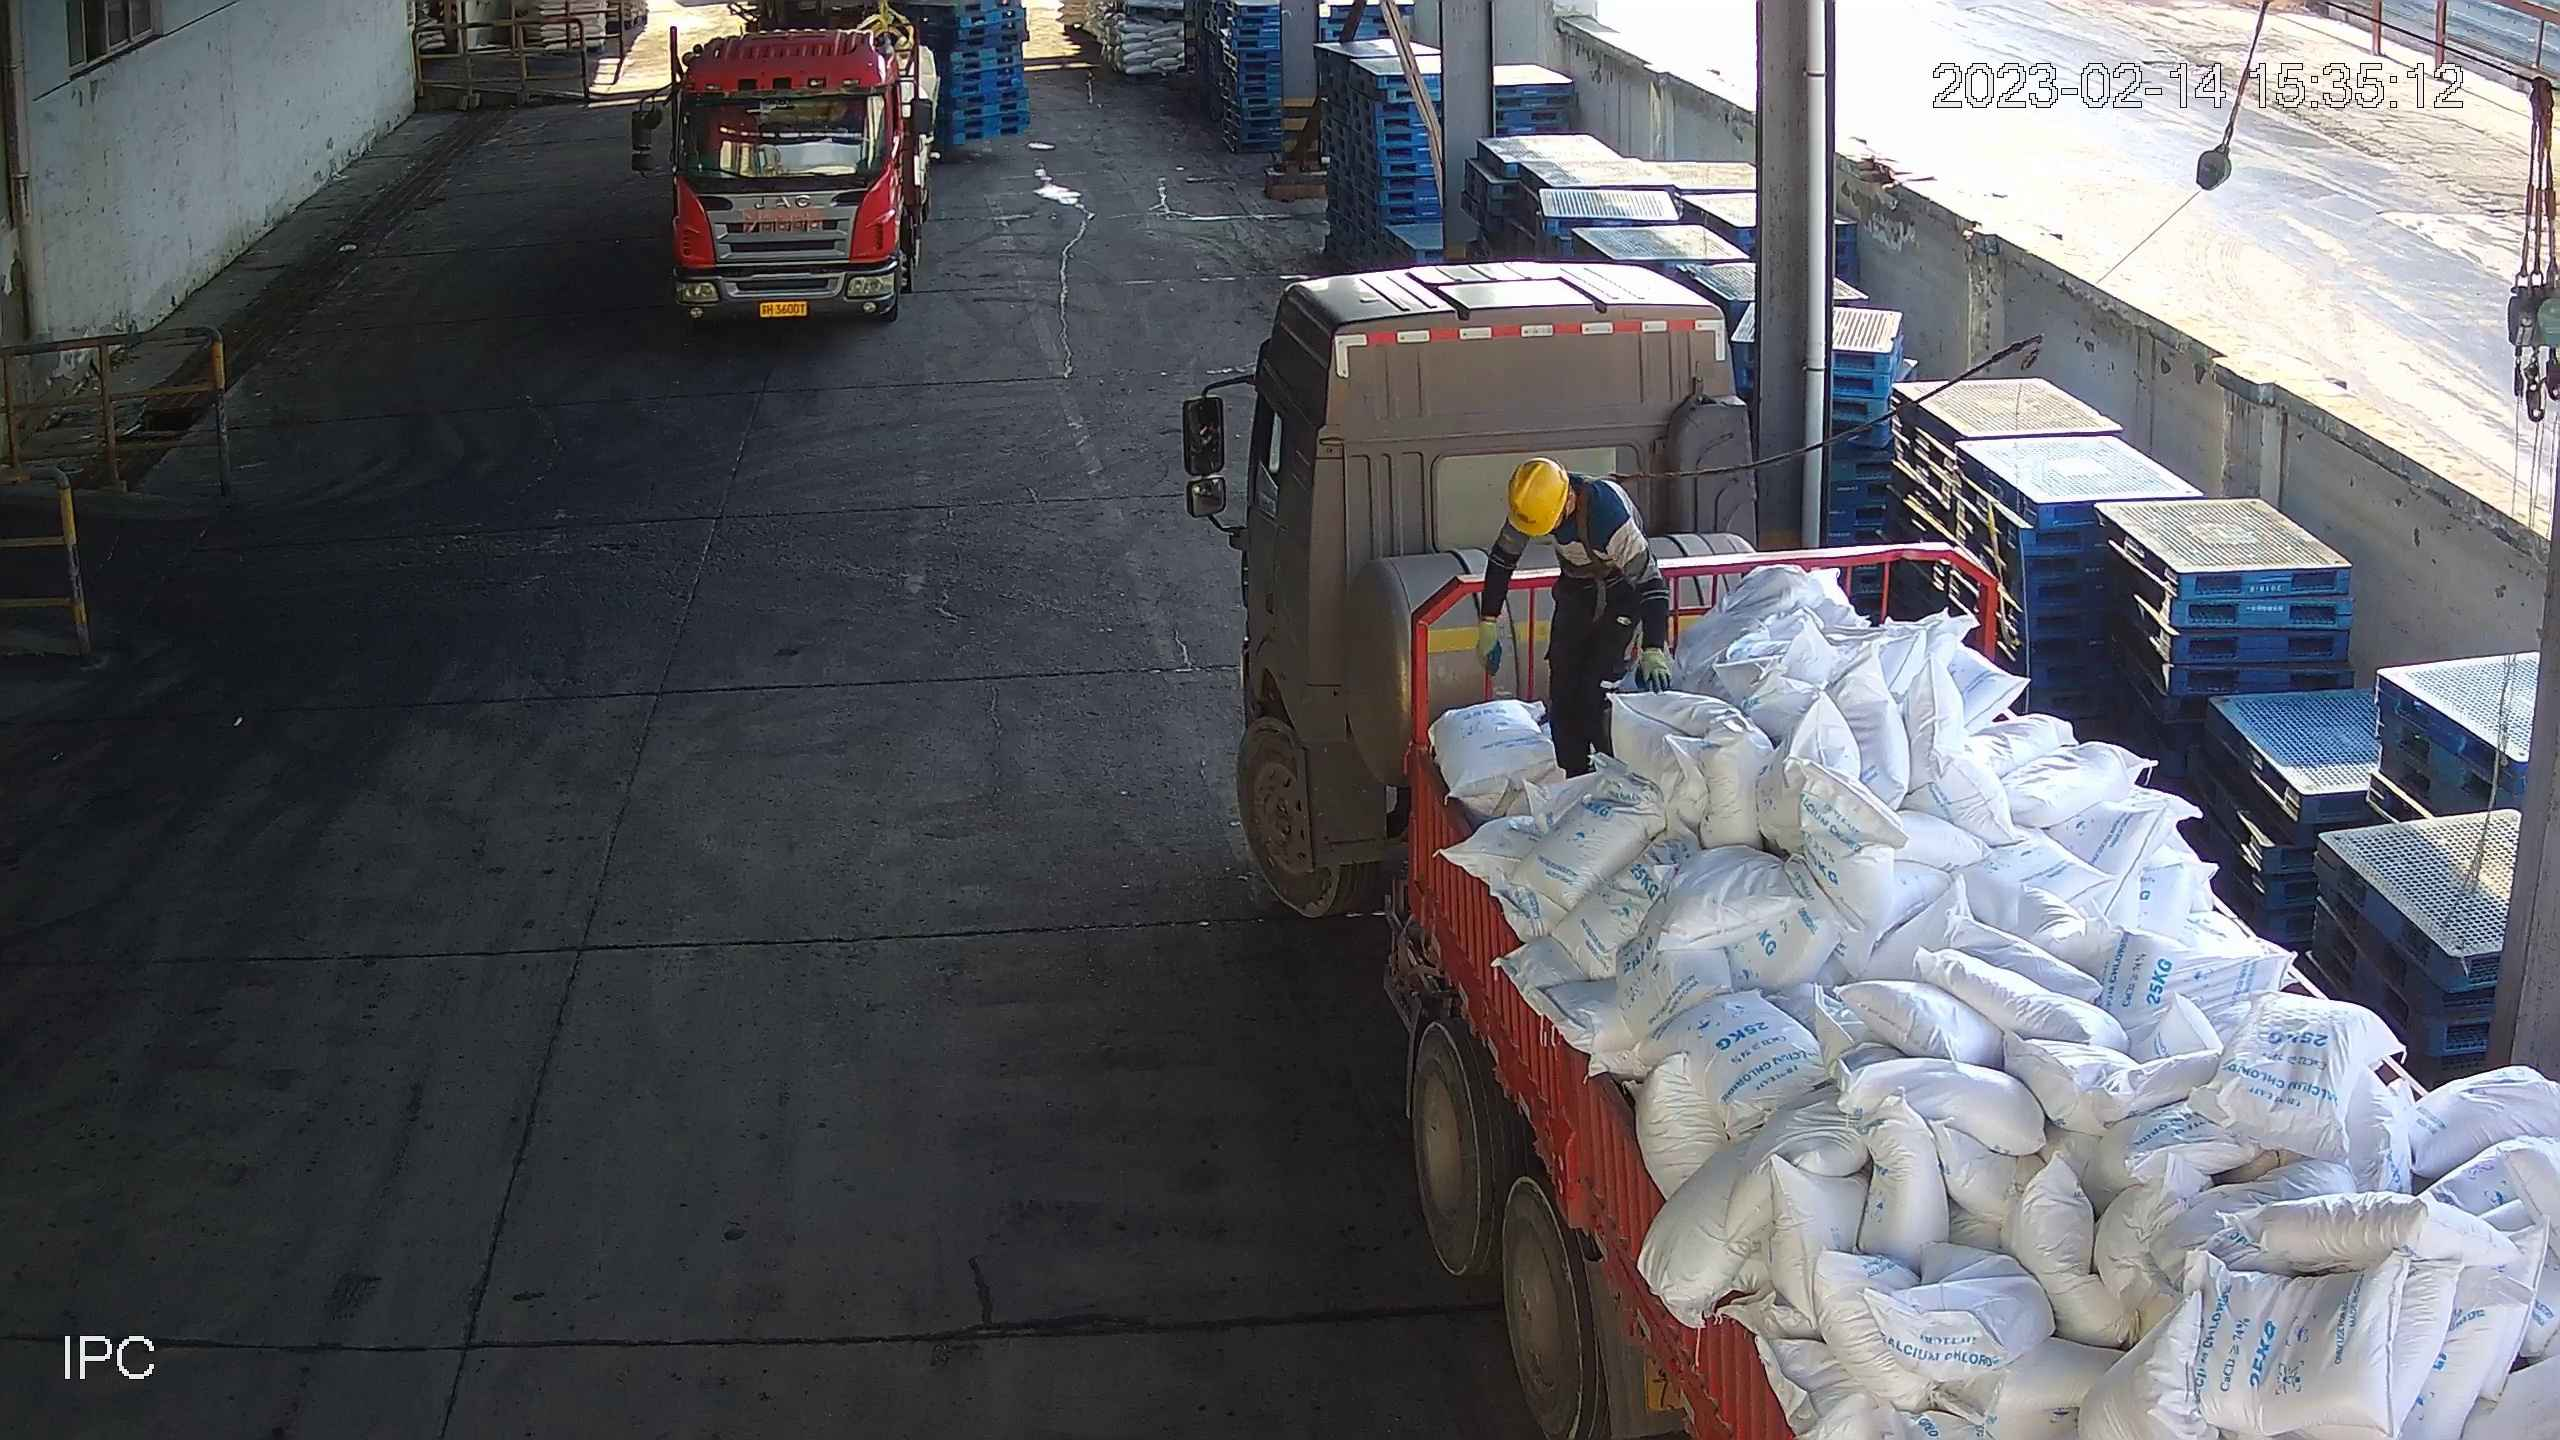belt: (1562, 464, 1654, 578)
head: (1493, 454, 1651, 532)
helmet: (1502, 453, 1569, 538)
people: (1470, 456, 1674, 781)
truck: (1218, 257, 2560, 1440), (661, 4, 958, 345)
